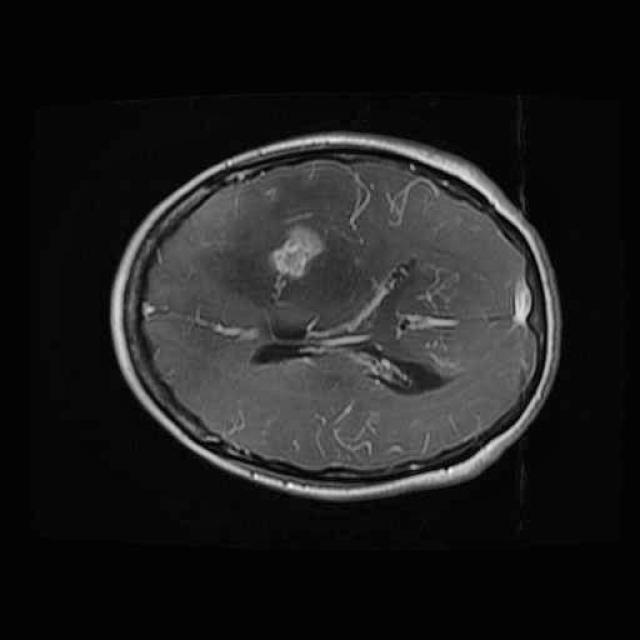Non-Tumor: (264, 213, 335, 295)
